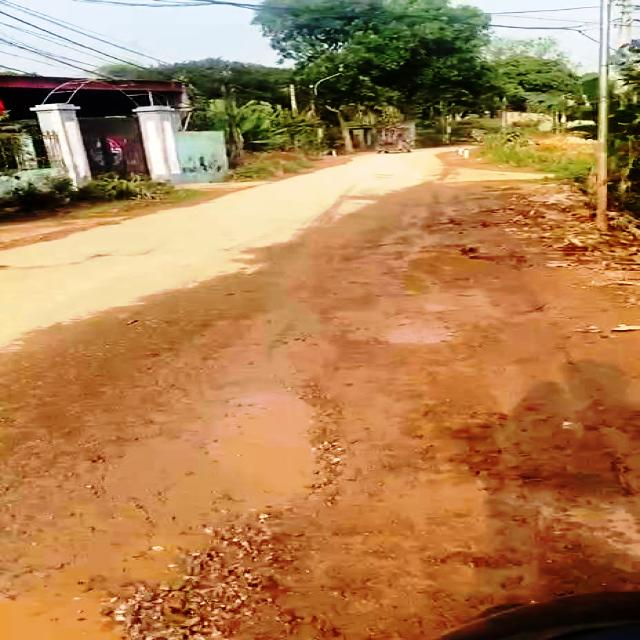pothole: (211, 386, 348, 505)
